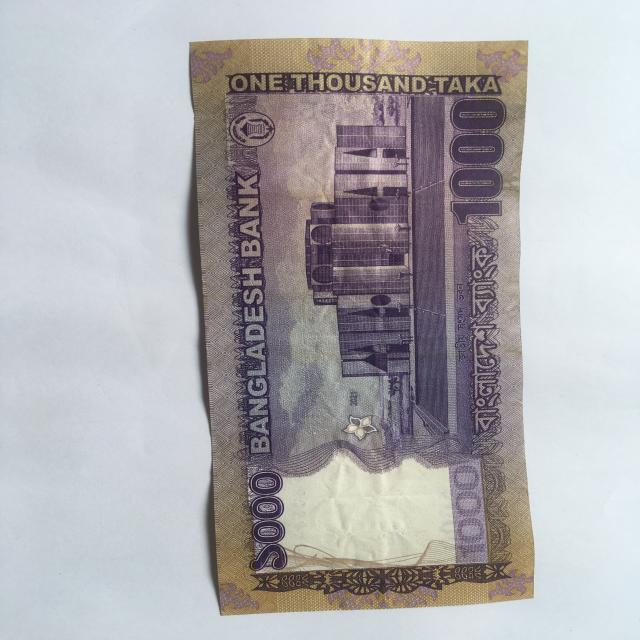Taka: (182, 31, 538, 615)
